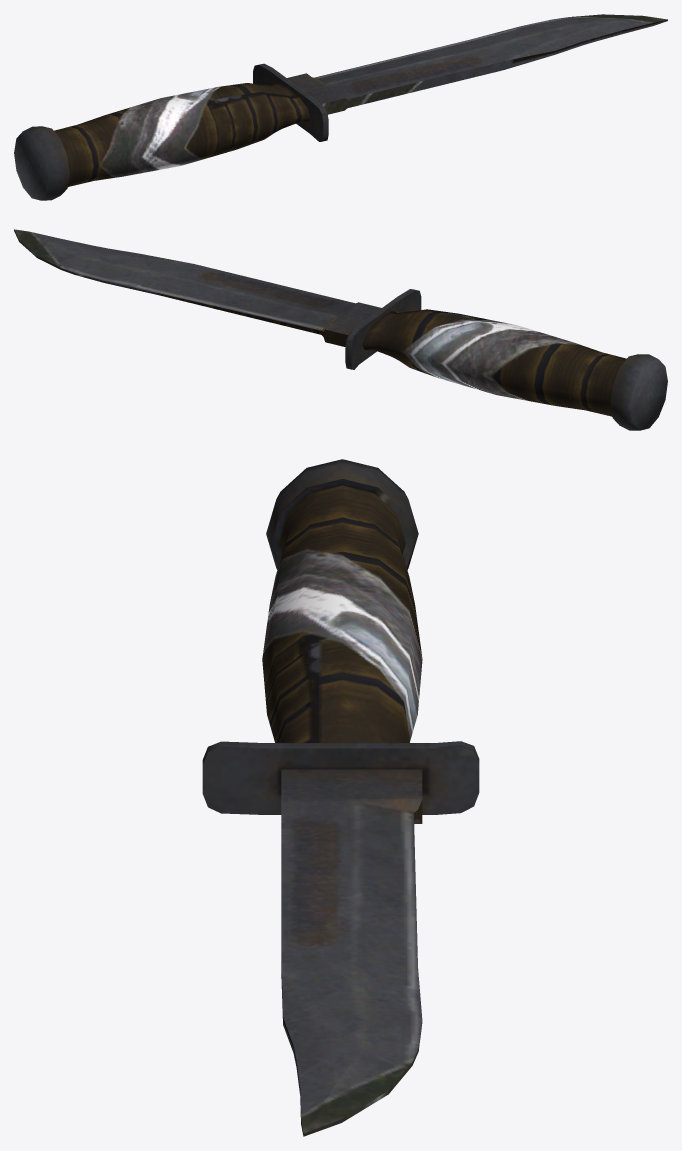
File: weapon_usa_kbar_knife0.obj
3 views of the same model, one above another, from view 1: azimuth 30°, elevation 25°; view 2: azimuth 150°, elevation 25°; view 3: azimuth 270°, elevation 25° (orthographic). The views are drawn at different scales.
Visible parts, largest first — view 1: TomGroup_0; view 2: TomGroup_0; view 3: TomGroup_0.
Part boxes in pixels (box(x1,y1,x2,y2)): TomGroup_0: box(14, 14, 667, 200); TomGroup_0: box(14, 229, 667, 430); TomGroup_0: box(202, 459, 479, 1136).
Bounding box in the file's own units: 30.76 × 3.24 × 5.87.
Materials: 1 (1 with a texture image).
